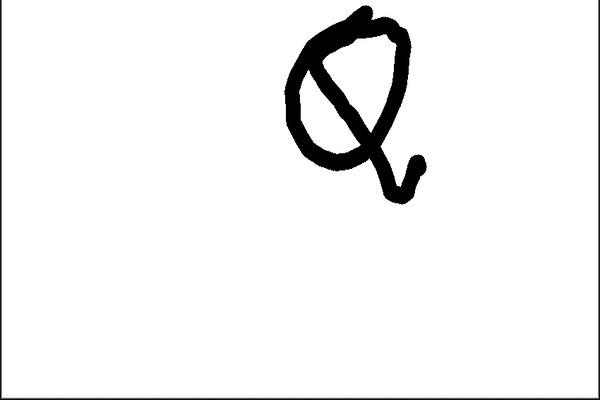Q: (277, 0, 435, 212)
